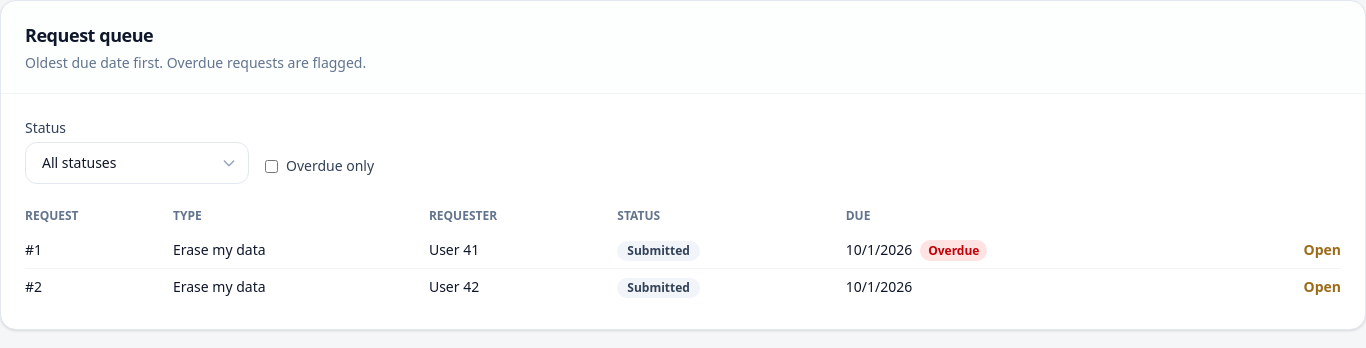
Scenario: PrivacyRequestsTab › disables the status filter while Overdue only is ticked and says why
Expected: the text "#1" is shown, [25,232,173,268]
Expected: the dropdown labelled "Status" is enabled, [25,142,249,184]
Click the checkbox labelled "Overdue only": (272, 166) [265,160,278,172]
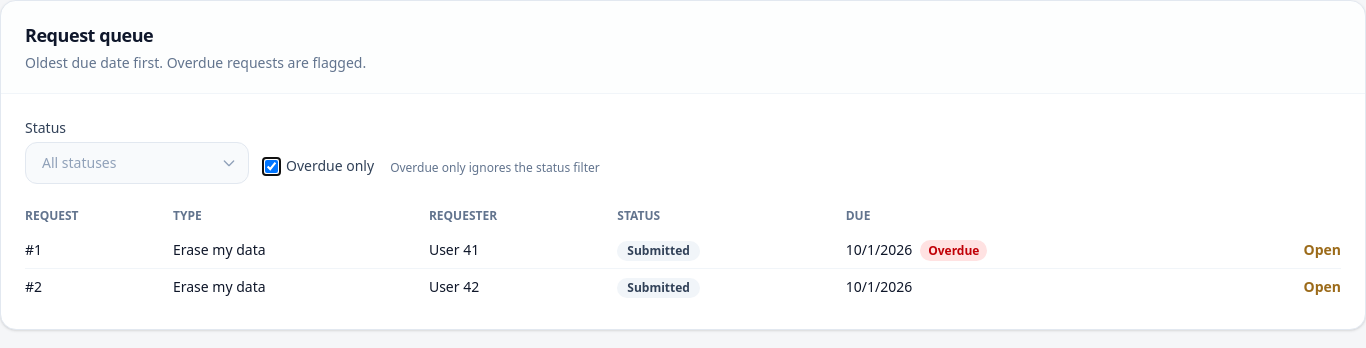
Now the dropdown labelled "Status" is disabled, box [25,142,249,184]
Now the text "Overdue only ignores the status filter" is shown, box [390,160,600,184]
